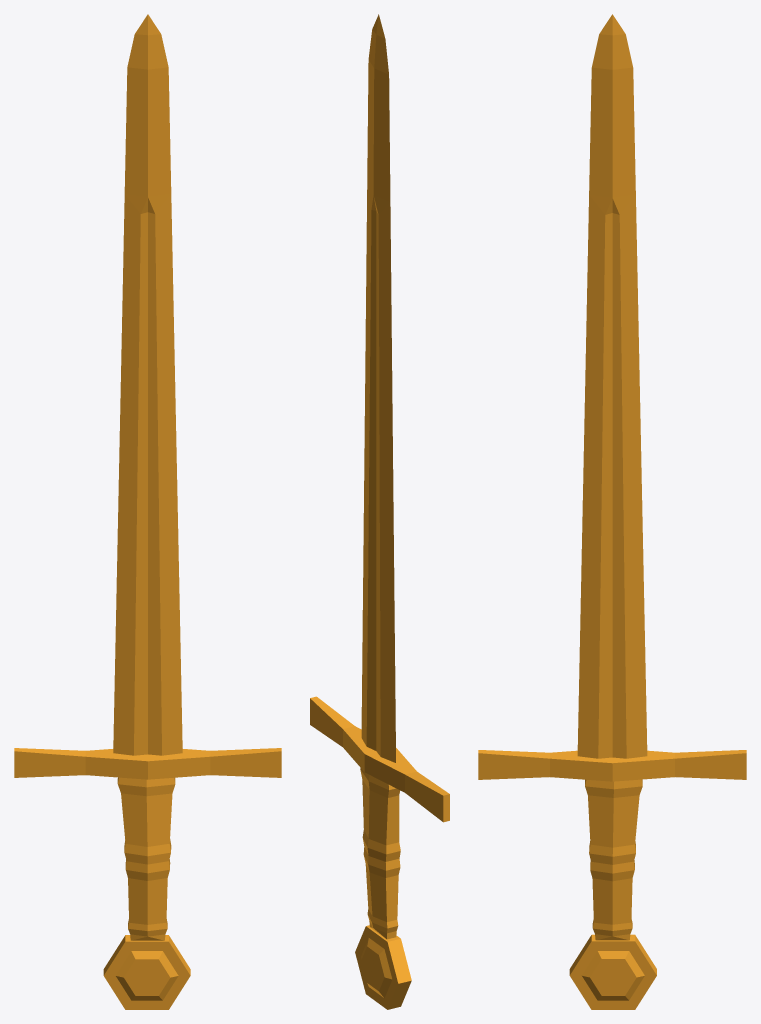
The model's file is SM_Sword_Arming_Fantasy.fbx.
3 renders of one model, left to right at view 1: azimuth 90°, elevation 25°; view 2: azimuth 210°, elevation 25°; view 3: azimuth 270°, elevation 25°, orthographic.
Visible parts, largest first — view 1: sword-arming-fantasy; view 2: sword-arming-fantasy; view 3: sword-arming-fantasy.
Boxes of the visible parts, bbox=[...] form: sword-arming-fantasy: bbox=[14, 14, 281, 1009]; sword-arming-fantasy: bbox=[310, 14, 449, 1009]; sword-arming-fantasy: bbox=[478, 14, 746, 1009].
Bounding box in the file's own units: 0.0306 × 0.9107 × 0.2229.
